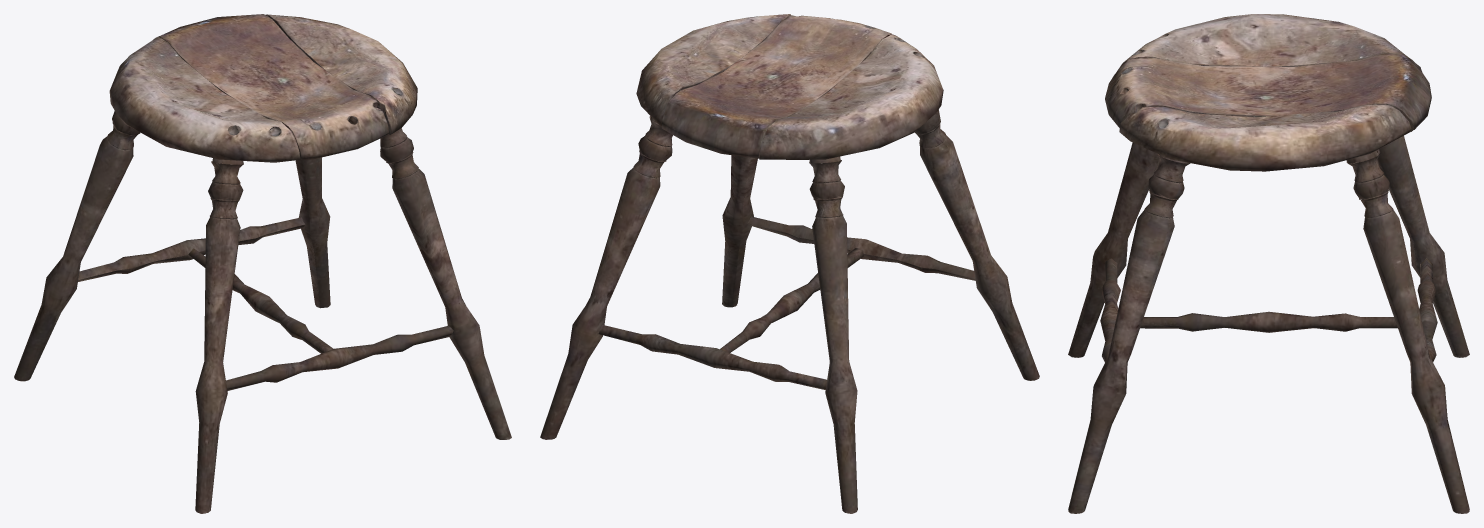
Rendered from stool.glb.
3 renders of one model, left to right at view 1: azimuth 30°, elevation 25°; view 2: azimuth 150°, elevation 25°; view 3: azimuth 270°, elevation 25°, orthographic. The views are drawn at different scales.
Visible parts, largest first — view 1: wooden_stool_01; view 2: wooden_stool_01; view 3: wooden_stool_01.
Part boxes in pixels (bbox=[...]): wooden_stool_01: bbox=[14, 14, 511, 513]; wooden_stool_01: bbox=[540, 14, 1039, 513]; wooden_stool_01: bbox=[1068, 14, 1469, 513].
Size of the model in its own units: 0.4254 by 0.4371 by 0.4424.
Materials: 1 (1 with a texture image).
